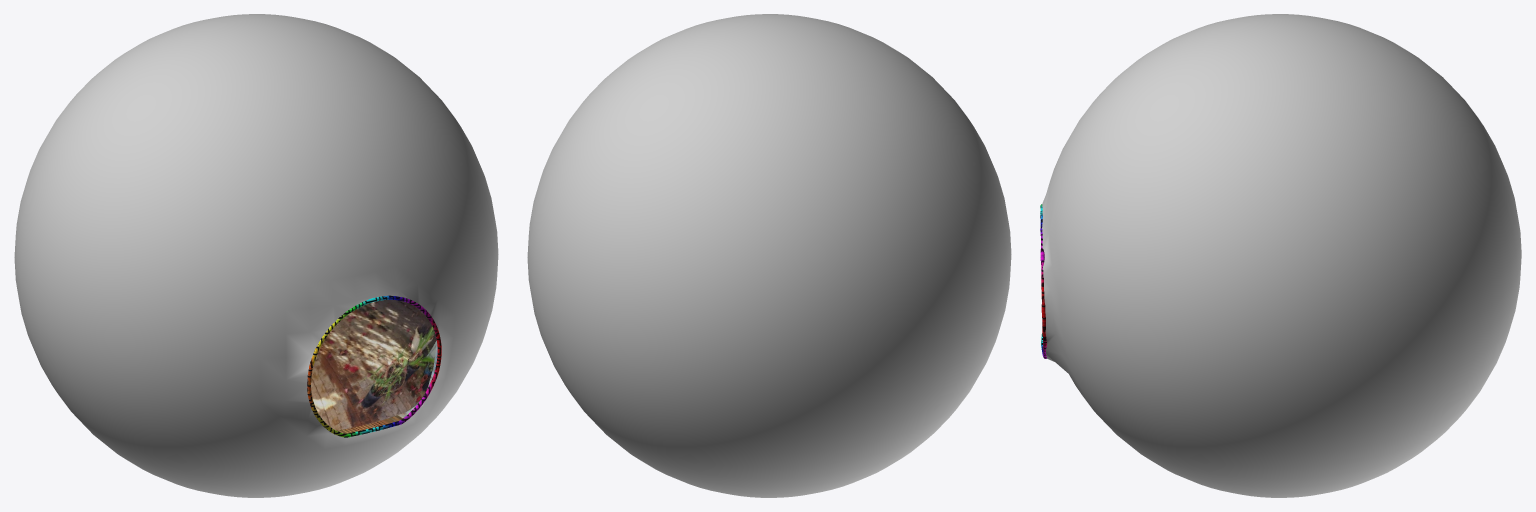
File: porta.gltf
3 renders of one model, left to right at view 1: azimuth 30°, elevation 25°; view 2: azimuth 150°, elevation 25°; view 3: azimuth 270°, elevation 25°, orthographic.
Visible parts, largest first — view 1: node-0; view 2: node-0; view 3: node-0.
Part boxes in pixels (x1,y1,x2,y2): node-0: [14, 14, 498, 497]; node-0: [527, 14, 1011, 497]; node-0: [1040, 14, 1521, 497].
Size of the model in its own units: 7.06 by 7.06 by 7.02.
Materials: 3 (2 with a texture image).
